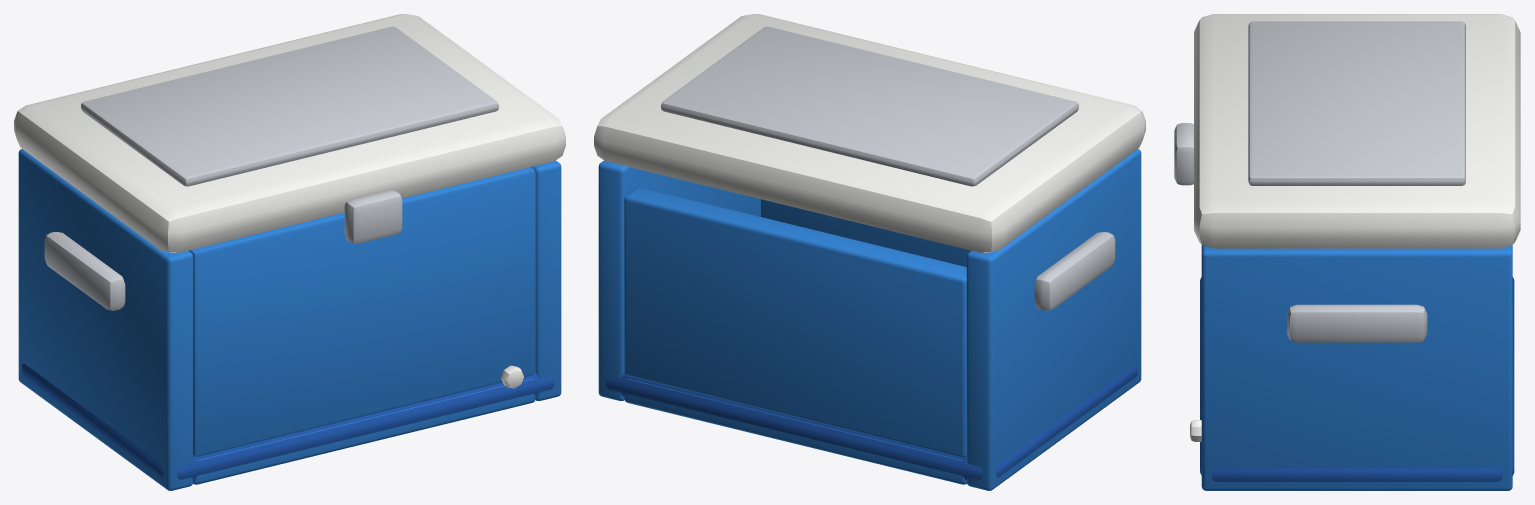
The model's file is caixa_termica_praia.glb.
The picture shows the model from 3 angles, left to right: view 1: azimuth 30°, elevation 25°; view 2: azimuth 150°, elevation 25°; view 3: azimuth 270°, elevation 25°; orthographic projection. The views are drawn at different scales.
Visible parts, largest first — view 1: caixa_termica_praia, tampa; view 2: caixa_termica_praia, tampa; view 3: tampa, caixa_termica_praia.
Boxes of the visible parts, left/top/right/bottom form: caixa_termica_praia: left=18, top=149, right=561, bottom=490; tampa: left=14, top=14, right=565, bottom=252; caixa_termica_praia: left=598, top=149, right=1141, bottom=490; tampa: left=594, top=14, right=1145, bottom=252; tampa: left=1174, top=14, right=1520, bottom=248; caixa_termica_praia: left=1190, top=245, right=1514, bottom=490.
Size of the model in its own units: 0.654 by 0.419 by 0.445.
1 material, 1 textured.
